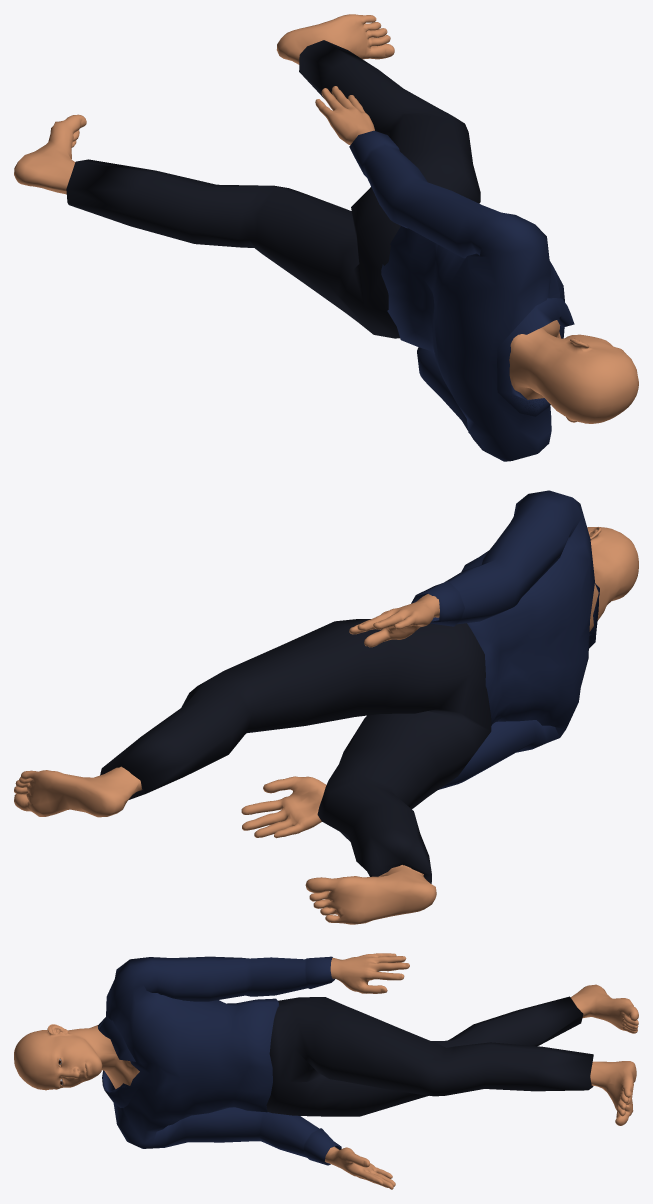
The model's file is walk.obj.
3 views of the same model, one above another, from view 1: azimuth 30°, elevation 25°; view 2: azimuth 150°, elevation 25°; view 3: azimuth 270°, elevation 25° (orthographic). The views are drawn at different scales.
Bounding box in the file's own units: 0.9027 × 0.5397 × 1.65.
